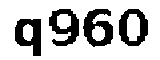0: (119, 6, 152, 50)
6: (82, 4, 114, 51)
9: (46, 6, 80, 51)
q: (12, 17, 45, 60)
